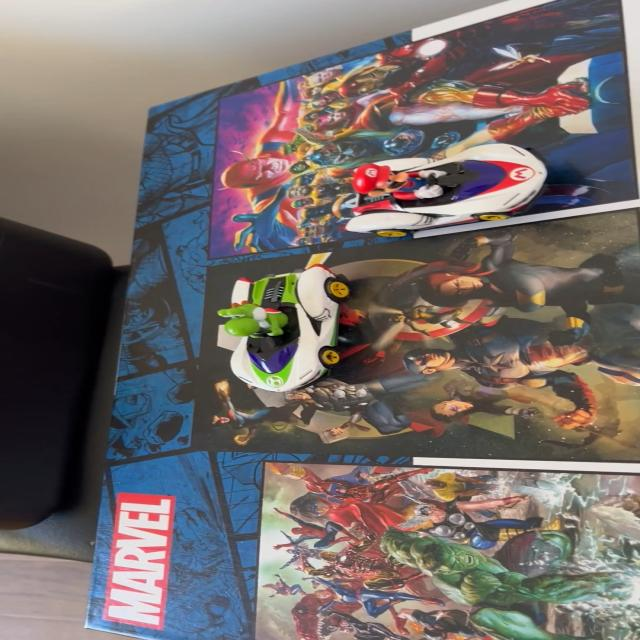mario: (326, 140, 562, 234)
yoshi: (202, 256, 366, 406)
